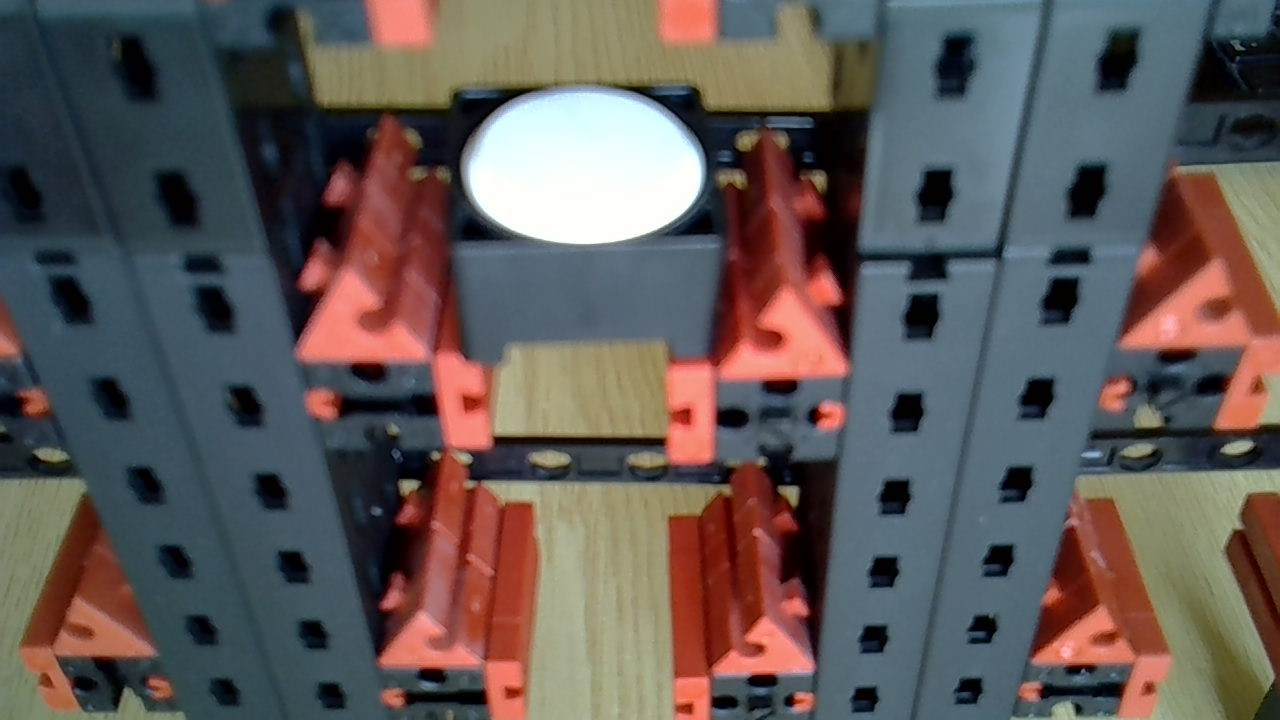Behaelter: (448, 88, 722, 363)
WerkStueck: (459, 87, 710, 243)
